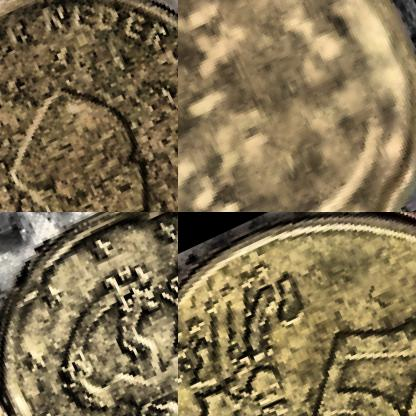coin: (178, 0, 415, 211), (178, 212, 415, 415), (0, 0, 177, 211), (0, 212, 177, 415)
